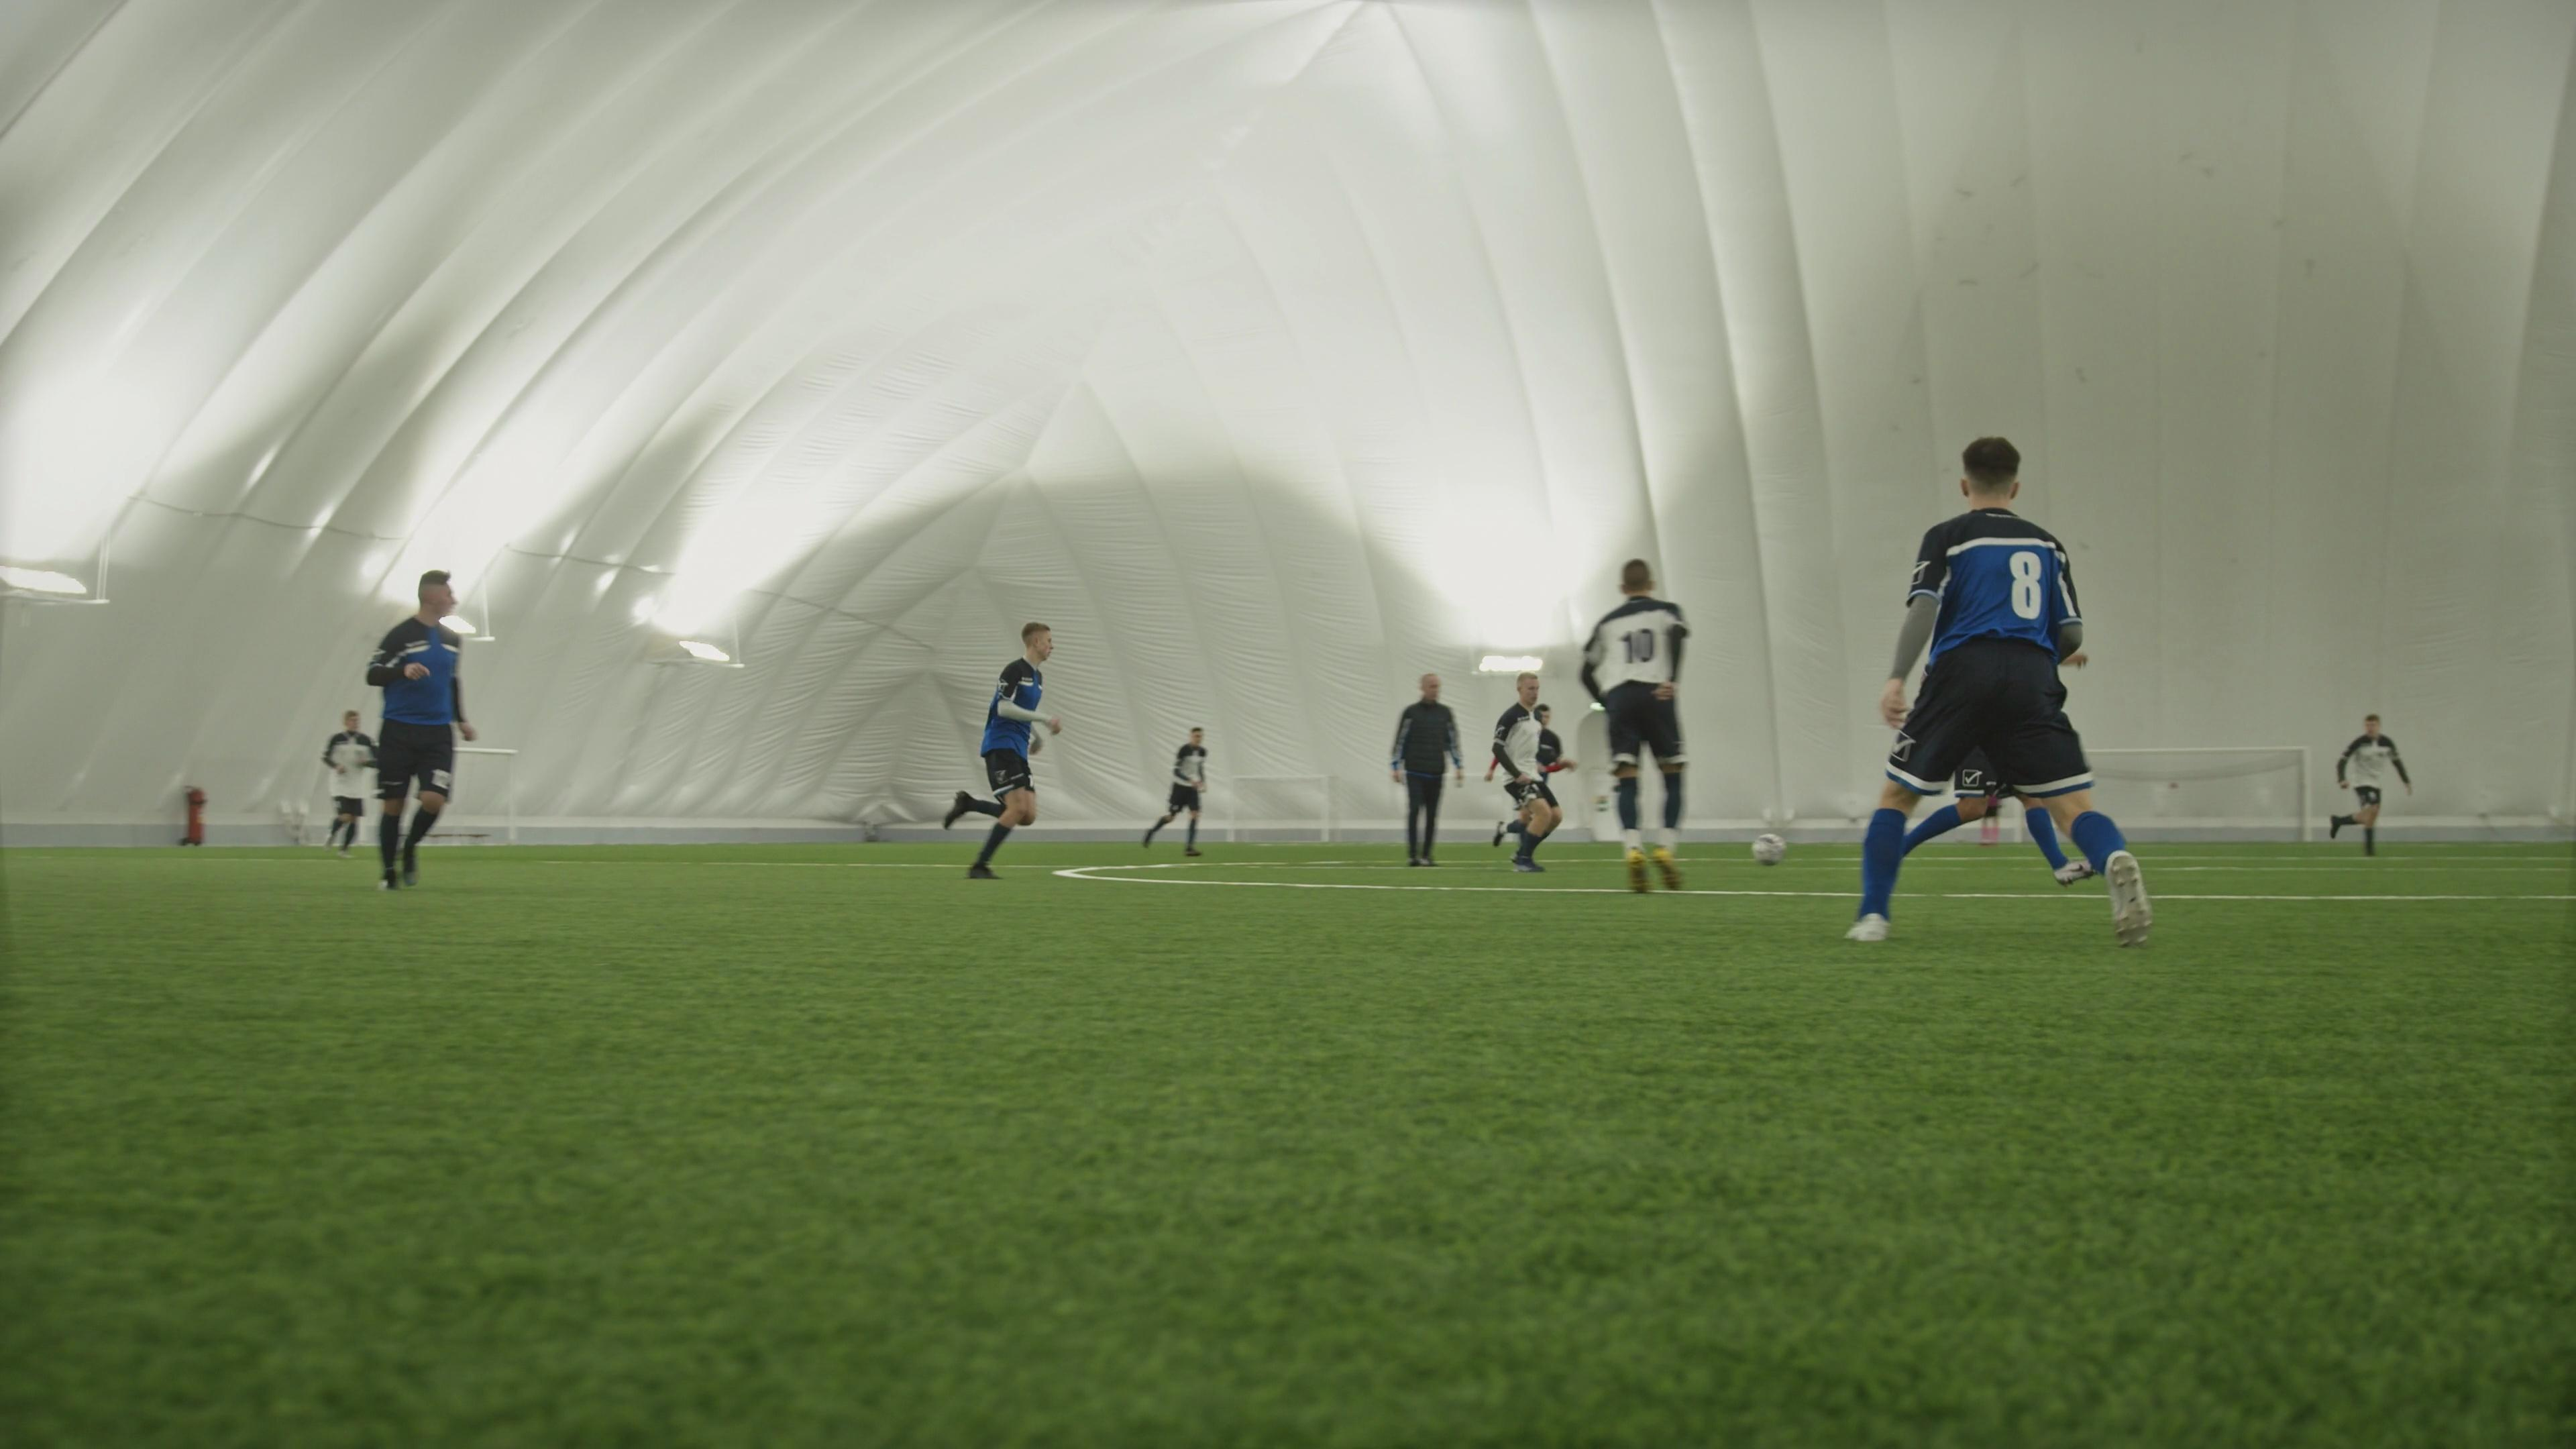other: (1391, 676, 1461, 869)
team1: (1842, 433, 2153, 950), (363, 568, 476, 890), (961, 619, 1058, 879)
team2: (1576, 561, 1693, 893), (1490, 674, 1573, 874), (2334, 708, 2413, 855), (1141, 727, 1214, 858), (322, 715, 379, 853)
